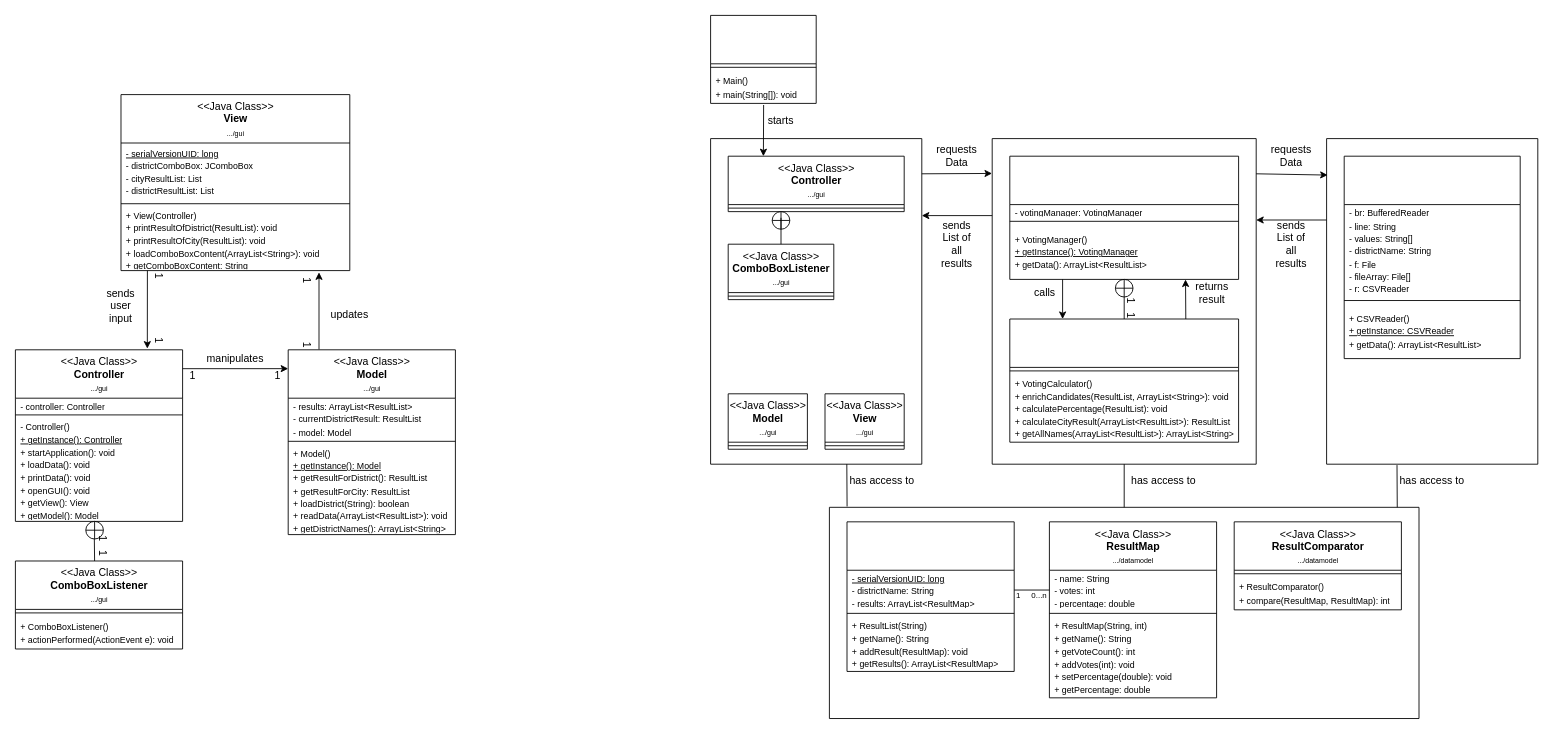
Some shapes in this 1553 by 734 pixel diagram are drawn without their labels. The shapes that lost their labels are listed below. From the top down, each one's box as (x1, y1, x2, y2) in pixels, then its label:
(710, 15, 816, 103): <<Java Class>> Main
(1009, 155, 1239, 279): <<Java Class>> VotingManager .../application
(1343, 155, 1520, 359): <<Java Class>> CSVReader .../data
(1009, 318, 1239, 442): <<Java Class>> VotingCalculator .../application
(846, 521, 1014, 671): <<Java Class>> ResultList .../datamodel
